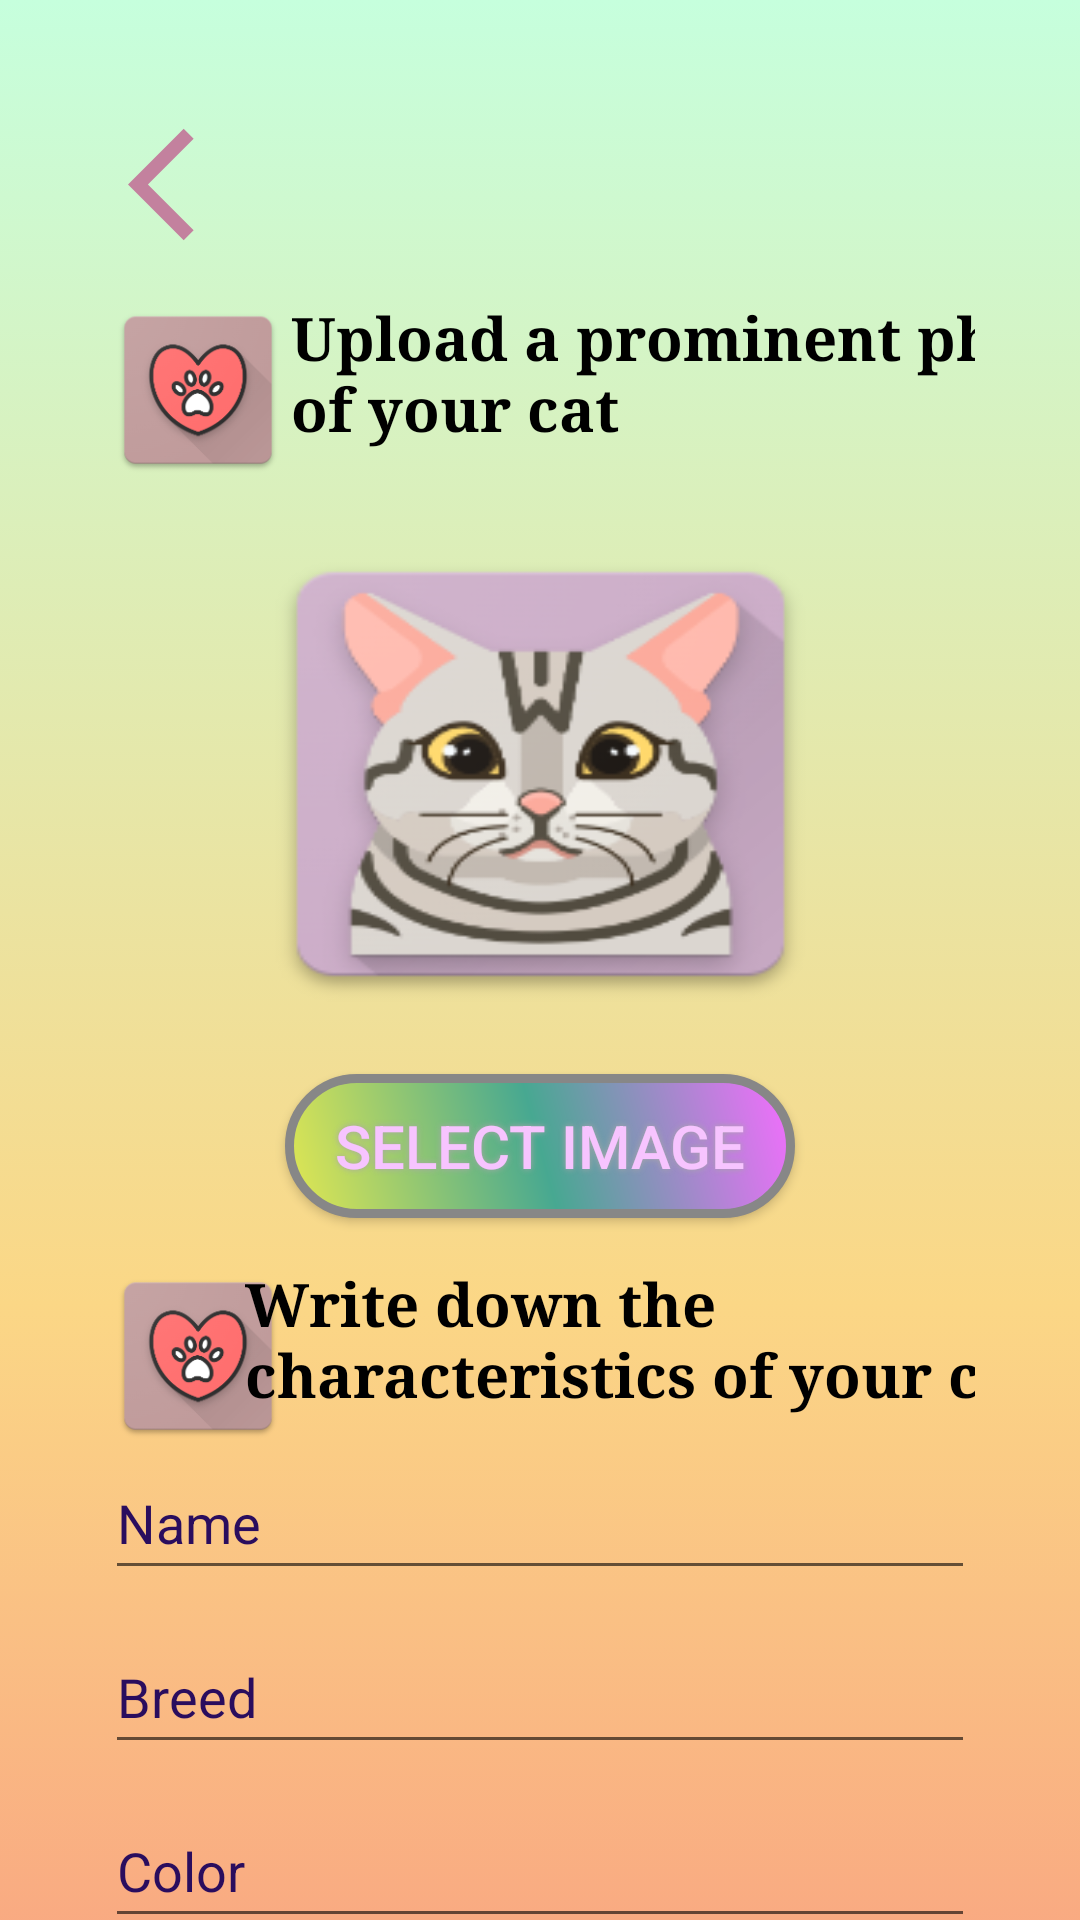

Named icons in this screenshot (1080 x 1920) and their centers, (x=x, y=y):
arrow back: (x=161, y=184)
paw: (x=198, y=392), (x=207, y=1358)
